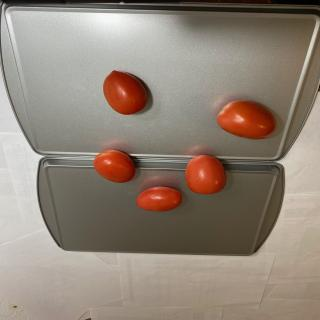Tomato: (216, 100, 278, 139), (103, 70, 148, 115), (185, 154, 227, 194), (93, 149, 136, 183), (136, 186, 182, 212)
